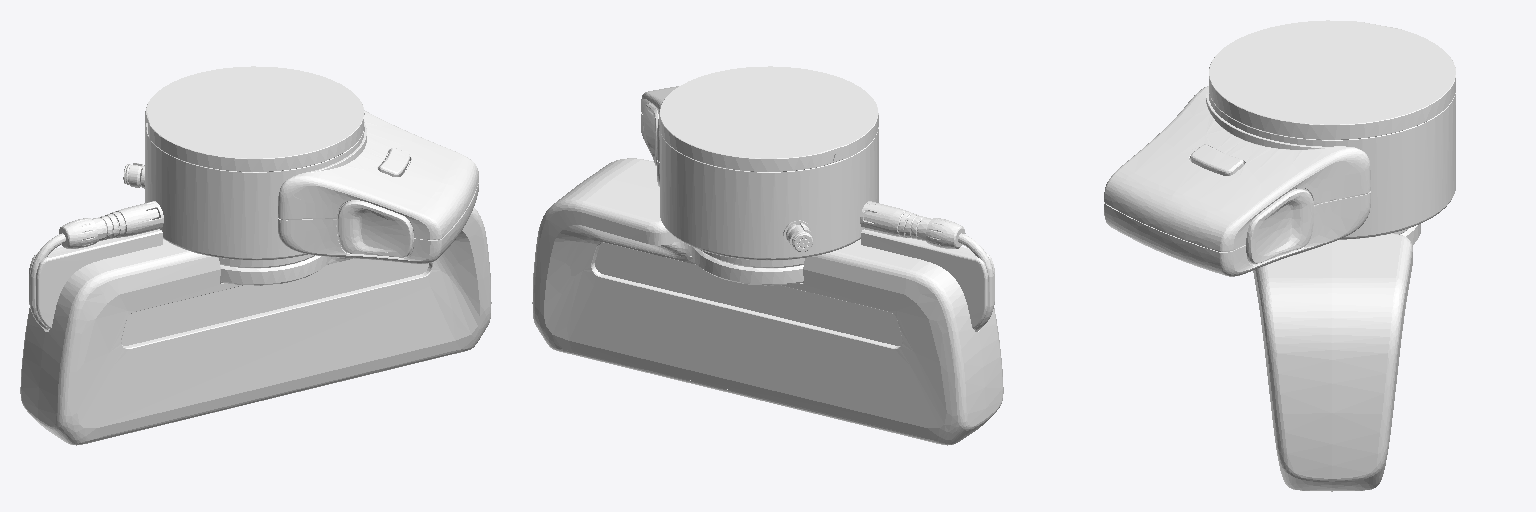
robot.urdf — panda:
<?xml version="1.0" ?>
<!-- =================================================================================== -->
<!-- |    This document was autogenerated by xacro from panda_arm_hand.urdf.xacro      | -->
<!-- |    EDITING THIS FILE BY HAND IS NOT RECOMMENDED                                 | -->
<!-- =================================================================================== -->
<robot name="panda" xmlns:xacro="http://www.ros.org/wiki/xacro">
  <link name="panda_link0">
    <visual>
      <geometry>
        <mesh filename="meshes/visual/link0.obj"/>
      </geometry>
      <material name="panda_white"/>
    </visual>
    <collision>
      <geometry>
        <mesh filename="meshes/collision/link0.obj"/>
      </geometry>
      <material name="panda_white"/>
    </collision>
  </link>
  <link name="panda_link1">
    <visual>
      <geometry>
        <mesh filename="meshes/visual/link1.obj"/>
      </geometry>
      <material name="panda_white"/>
    </visual>
    <collision>
      <geometry>
        <mesh filename="meshes/collision/link1.obj"/>
      </geometry>
      <material name="panda_white"/>
    </collision>
  </link>
  <joint name="panda_joint1" type="revolute">
    <safety_controller k_position="100.0" k_velocity="40.0" soft_lower_limit="-2.8973" soft_upper_limit="2.8973"/>
    <origin rpy="0 0 0" xyz="0 0 0.333"/>
    <parent link="panda_link0"/>
    <child link="panda_link1"/>
    <axis xyz="0 0 1"/>
    <limit effort="87" lower="-2.9671" upper="2.9671" velocity="2.1750"/>
  </joint>
  <link name="panda_link2">
    <visual>
      <geometry>
        <mesh filename="meshes/visual/link2.obj"/>
      </geometry>
      <material name="panda_white"/>
    </visual>
    <collision>
      <geometry>
        <mesh filename="meshes/collision/link2.obj"/>
      </geometry>
      <material name="panda_white"/>
    </collision>
  </link>
  <joint name="panda_joint2" type="revolute">
    <safety_controller k_position="100.0" k_velocity="40.0" soft_lower_limit="-1.7628" soft_upper_limit="1.7628"/>
    <origin rpy="-1.57079632679 0 0" xyz="0 0 0"/>
    <parent link="panda_link1"/>
    <child link="panda_link2"/>
    <axis xyz="0 0 1"/>
    <limit effort="87" lower="-1.8326" upper="1.8326" velocity="2.1750"/>
  </joint>
  <link name="panda_link3">
    <visual>
      <geometry>
        <mesh filename="meshes/visual/link3.obj"/>
      </geometry>
      <material name="panda_white"/>
    </visual>
    <collision>
      <geometry>
        <mesh filename="meshes/collision/link3.obj"/>
      </geometry>
      <material name="panda_white"/>
    </collision>
  </link>
  <joint name="panda_joint3" type="revolute">
    <safety_controller k_position="100.0" k_velocity="40.0" soft_lower_limit="-2.8973" soft_upper_limit="2.8973"/>
    <origin rpy="1.57079632679 0 0" xyz="0 -0.316 0"/>
    <parent link="panda_link2"/>
    <child link="panda_link3"/>
    <axis xyz="0 0 1"/>
    <limit effort="87" lower="-2.9671" upper="2.9671" velocity="2.1750"/>
  </joint>
  <link name="panda_link4">
    <visual>
      <geometry>
        <mesh filename="meshes/visual/link4.obj"/>
      </geometry>
      <material name="panda_white"/>
    </visual>
    <collision>
      <geometry>
        <mesh filename="meshes/collision/link4.obj"/>
      </geometry>
      <material name="panda_white"/>
    </collision>
  </link>
  <joint name="panda_joint4" type="revolute">
    <safety_controller k_position="100.0" k_velocity="40.0" soft_lower_limit="-3.0718" soft_upper_limit="-0.0698"/>
    <origin rpy="1.57079632679 0 0" xyz="0.0825 0 0"/>
    <parent link="panda_link3"/>
    <child link="panda_link4"/>
    <axis xyz="0 0 1"/>
    <limit effort="87" lower="-3.1416" upper="0.0" velocity="2.1750"/>
  </joint>
  <link name="panda_link5">
    <visual>
      <geometry>
        <mesh filename="meshes/visual/link5.obj"/>
      </geometry>
      <material name="panda_white"/>
    </visual>
    <collision>
      <geometry>
        <mesh filename="meshes/collision/link5.obj"/>
      </geometry>
      <material name="panda_white"/>
    </collision>
  </link>
  <joint name="panda_joint5" type="revolute">
    <safety_controller k_position="100.0" k_velocity="40.0" soft_lower_limit="-2.8973" soft_upper_limit="2.8973"/>
    <origin rpy="-1.57079632679 0 0" xyz="-0.0825 0.384 0"/>
    <parent link="panda_link4"/>
    <child link="panda_link5"/>
    <axis xyz="0 0 1"/>
    <limit effort="12" lower="-2.9671" upper="2.9671" velocity="2.6100"/>
  </joint>
  <link name="panda_link6">
    <visual>
      <geometry>
        <mesh filename="meshes/visual/link6.obj"/>
      </geometry>
      <material name="panda_white"/>
    </visual>
    <collision>
      <geometry>
        <mesh filename="meshes/collision/link6.obj"/>
      </geometry>
      <material name="panda_white"/>
    </collision>
  </link>
  <joint name="panda_joint6" type="revolute">
    <safety_controller k_position="100.0" k_velocity="40.0" soft_lower_limit="-0.0175" soft_upper_limit="3.7525"/>
    <origin rpy="1.57079632679 0 0" xyz="0 0 0"/>
    <parent link="panda_link5"/>
    <child link="panda_link6"/>
    <axis xyz="0 0 1"/>
    <limit effort="12" lower="-0.0873" upper="3.8223" velocity="2.6100"/>
  </joint>
  <link name="panda_link7">
    <visual>
      <geometry>
        <mesh filename="meshes/visual/link7.obj"/>
      </geometry>
      <material name="panda_white"/>
    </visual>
    <collision>
      <geometry>
        <mesh filename="meshes/collision/link7.obj"/>
      </geometry>
      <material name="panda_white"/>
    </collision>
  </link>
  <joint name="panda_joint7" type="revolute">
    <safety_controller k_position="100.0" k_velocity="40.0" soft_lower_limit="-2.8973" soft_upper_limit="2.8973"/>
    <origin rpy="1.57079632679 0 0" xyz="0.088 0 0"/>
    <parent link="panda_link6"/>
    <child link="panda_link7"/>
    <axis xyz="0 0 1"/>
    <limit effort="12" lower="-2.9671" upper="2.9671" velocity="2.6100"/>
  </joint>
  <link name="panda_link8"/>
  <joint name="panda_joint8" type="fixed">
    <origin rpy="0 0 0" xyz="0 0 0.107"/>
    <parent link="panda_link7"/>
    <child link="panda_link8"/>
    <axis xyz="0 0 0"/>
  </joint>
  <joint name="panda_hand_joint" type="fixed">
    <parent link="panda_link8"/>
    <child link="panda_hand"/>
    <origin rpy="0 0 -1.57079632679" xyz="0 0 0"/>
  </joint>
  <link name="panda_hand">
    <visual>
      <geometry>
        <mesh filename="meshes/visual/hand.obj"/>
      </geometry>
      <material name="panda_white"/>
    </visual>
    <collision>
      <geometry>
        <mesh filename="meshes/collision/hand.obj"/>
      </geometry>
      <material name="panda_white"/>
    </collision>
  </link>
  <link name="panda_camera">

  </link>
  <link name="panda_leftfinger">
    <visual>
      <geometry>
        <mesh filename="meshes/visual/finger.obj"/>
      </geometry>
      <material name="panda_white"/>
    </visual>
    <collision>
      <geometry>
        <mesh filename="meshes/collision/finger.obj"/>
      </geometry>
      <material name="panda_white"/>
    </collision>
  </link>
  <link name="panda_rightfinger">
    <visual>
      <origin rpy="0 0 3.14159265359" xyz="0 0 0"/>
      <geometry>
        <mesh filename="meshes/visual/finger.obj"/>
      </geometry>
      <material name="panda_white"/>
    </visual>
    <collision>
      <origin rpy="0 0 3.14159265359" xyz="0 0 0"/>
      <geometry>
        <mesh filename="meshes/collision/finger.obj"/>
      </geometry>
      <material name="panda_white"/>
    </collision>
  </link>
  <joint name="panda_camera" type="fixed">
    <parent link="panda_hand"/>
    <child link="panda_camera"/>
    <origin rpy="0 0 0" xyz="0.1 0 0"/>
  </joint>
  <joint name="panda_finger_joint1" type="prismatic">
    <parent link="panda_hand"/>
    <child link="panda_leftfinger"/>
    <origin rpy="0 0 0" xyz="0 0 0.0584"/>
    <axis xyz="0 1 0"/>
    <limit effort="20" lower="0.0" upper="0.04" velocity="0.2"/>
  </joint>
  <joint name="panda_finger_joint2" type="prismatic">
    <parent link="panda_hand"/>
    <child link="panda_rightfinger"/>
    <origin rpy="0 0 0" xyz="0 0 0.0584"/>
    <axis xyz="0 -1 0"/>
    <limit effort="20" lower="0.0" upper="0.04" velocity="0.2"/>
    <mimic joint="panda_finger_joint1"/>
  </joint>
  <material name="panda_white">
    <color rgba="1. 1. 1. 1."/>
  </material>
</robot>

--- Facts derived from the render (not from the file) ---
The picture shows the robot from 3 angles, left to right: view 1: azimuth 30°, elevation 25°; view 2: azimuth 150°, elevation 25°; view 3: azimuth 270°, elevation 25°; orthographic projection.
Model panda with 13 links and 12 joints (7 revolute, 2 prismatic, 3 fixed), rooted at panda_link0, posed every joint at zero.
Visible links, largest first — view 1: panda_hand, panda_link7; view 2: panda_hand, panda_link7; view 3: panda_link7, panda_hand.
Link boxes in pixels (bbox=[...]): panda_hand: bbox=[20, 201, 491, 445]; panda_link7: bbox=[123, 66, 478, 267]; panda_hand: bbox=[532, 158, 1003, 445]; panda_link7: bbox=[641, 66, 878, 267]; panda_link7: bbox=[1104, 20, 1455, 276]; panda_hand: bbox=[1253, 224, 1420, 491].
Bounding box of the posed robot: 0.2045 × 0.1253 × 0.121 m (x, y, z).
Meshes: 10 distinct files referenced, 2 mesh visuals loaded (2 OBJ); not drawn: 9 (reference not matched to a file when rendering).